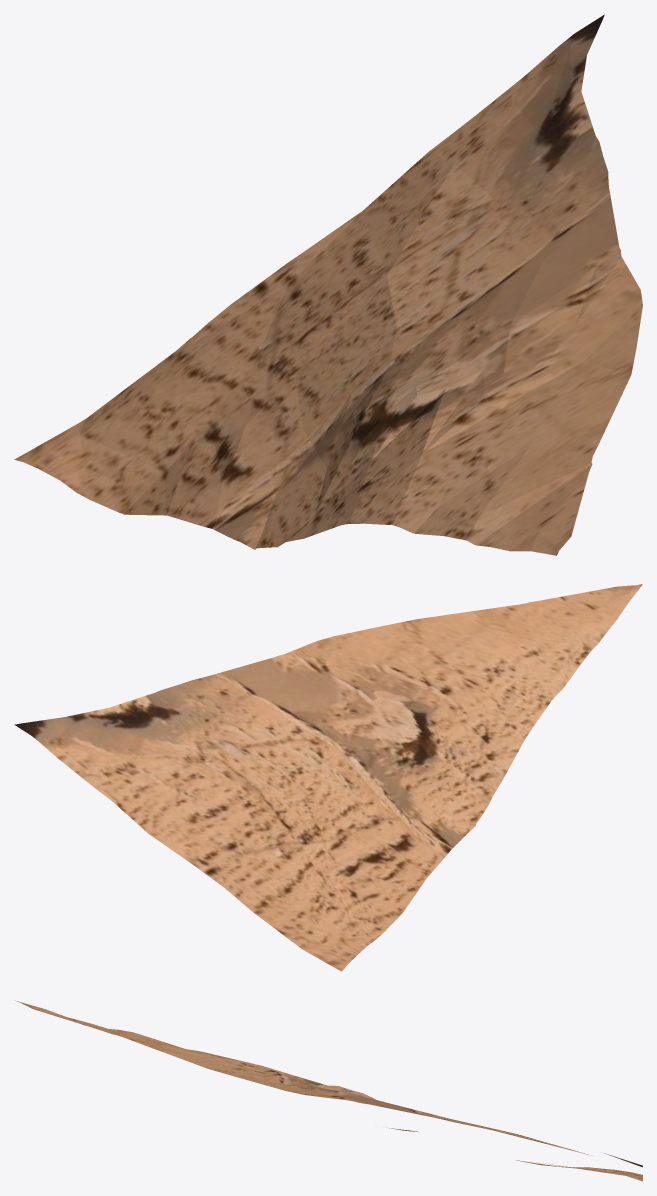
3 renders of one model, top to bottom at view 1: azimuth 30°, elevation 25°; view 2: azimuth 150°, elevation 25°; view 3: azimuth 270°, elevation 25°, orthographic. The views are drawn at different scales.
Bounding box in the file's own units: 0.6495 × 0.3165 × 1.03.
1 material, 1 textured.
